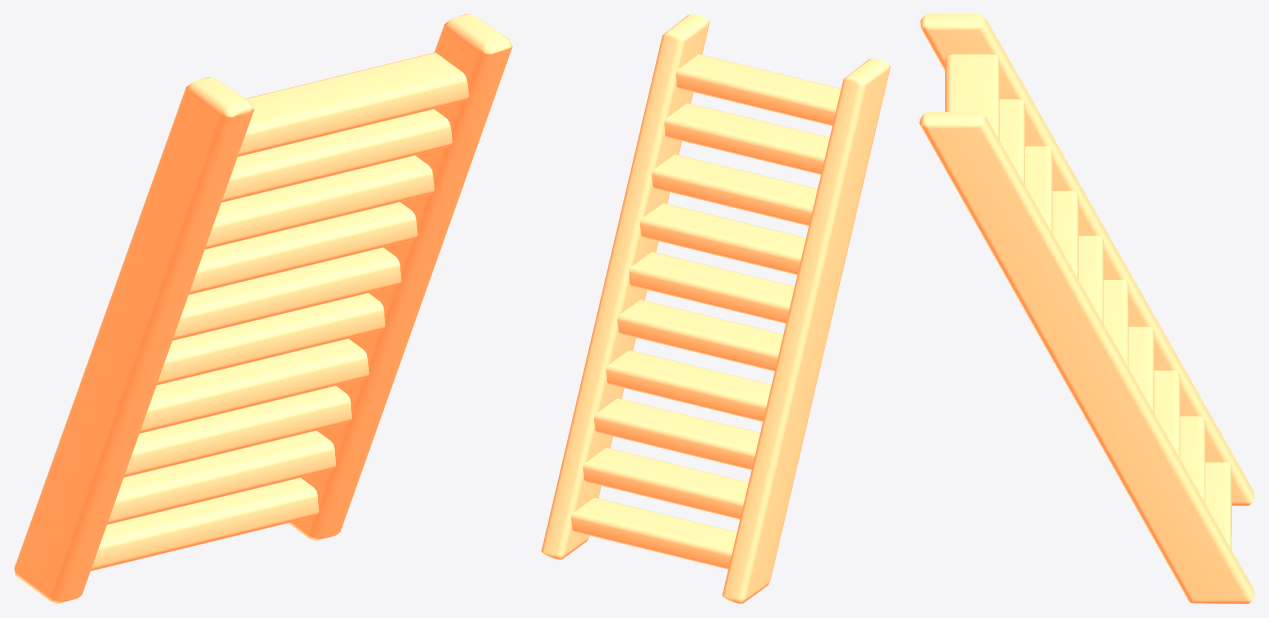
File: SM_Stairs03.fbx
3 views of the same model, side by side, from view 1: azimuth 30°, elevation 25°; view 2: azimuth 150°, elevation 25°; view 3: azimuth 270°, elevation 25° (orthographic). The views are drawn at different scales.
Visible parts, largest first — view 1: SM_Stairs03_LOD0; view 2: SM_Stairs03_LOD0; view 3: SM_Stairs03_LOD0.
Part boxes in pixels (bbox=[...]): SM_Stairs03_LOD0: bbox=[14, 14, 512, 603]; SM_Stairs03_LOD0: bbox=[541, 14, 890, 603]; SM_Stairs03_LOD0: bbox=[919, 14, 1254, 603].
Size of the model in its own units: 132 by 169 by 270.
